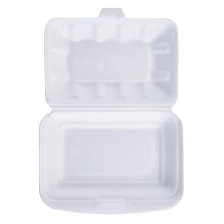foam_box: (31, 0, 190, 219)
